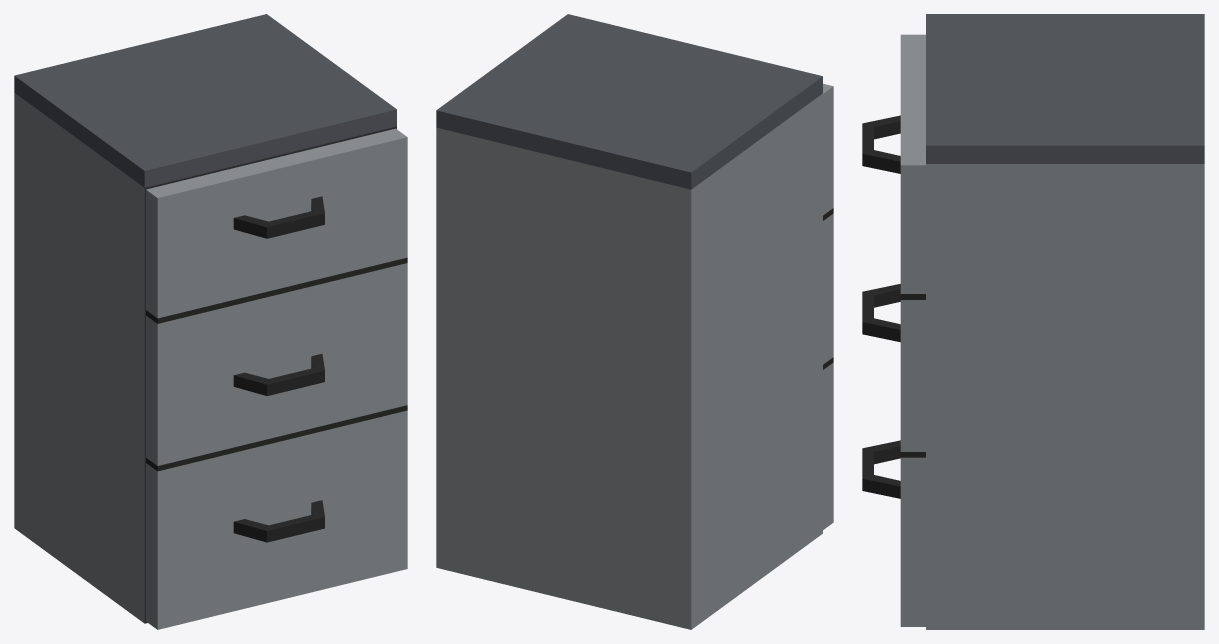
File: Kitchen_Cabinet_2C.fbx
3 views of the same model, side by side, from view 1: azimuth 30°, elevation 25°; view 2: azimuth 150°, elevation 25°; view 3: azimuth 270°, elevation 25° (orthographic). The views are drawn at different scales.
Visible parts, largest first — view 1: polySurface1781; view 2: polySurface1781; view 3: polySurface1781.
Part boxes in pixels (box(x1,y1,x2,y2)): polySurface1781: box(14, 14, 407, 629); polySurface1781: box(436, 14, 833, 629); polySurface1781: box(862, 14, 1204, 629).
Size of the model in its own units: 0.7792 by 1.34 by 0.8565.
1 material, 1 textured.
